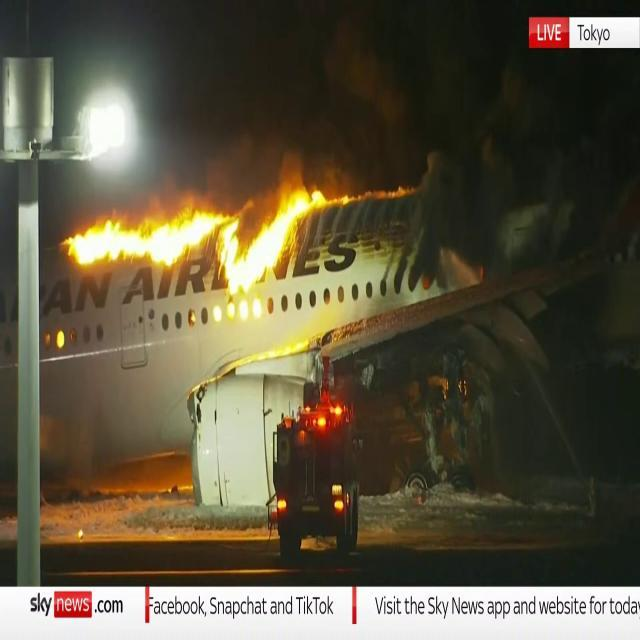Fire: (65, 190, 321, 312), (302, 390, 348, 433)
Smoke: (312, 36, 538, 260)
